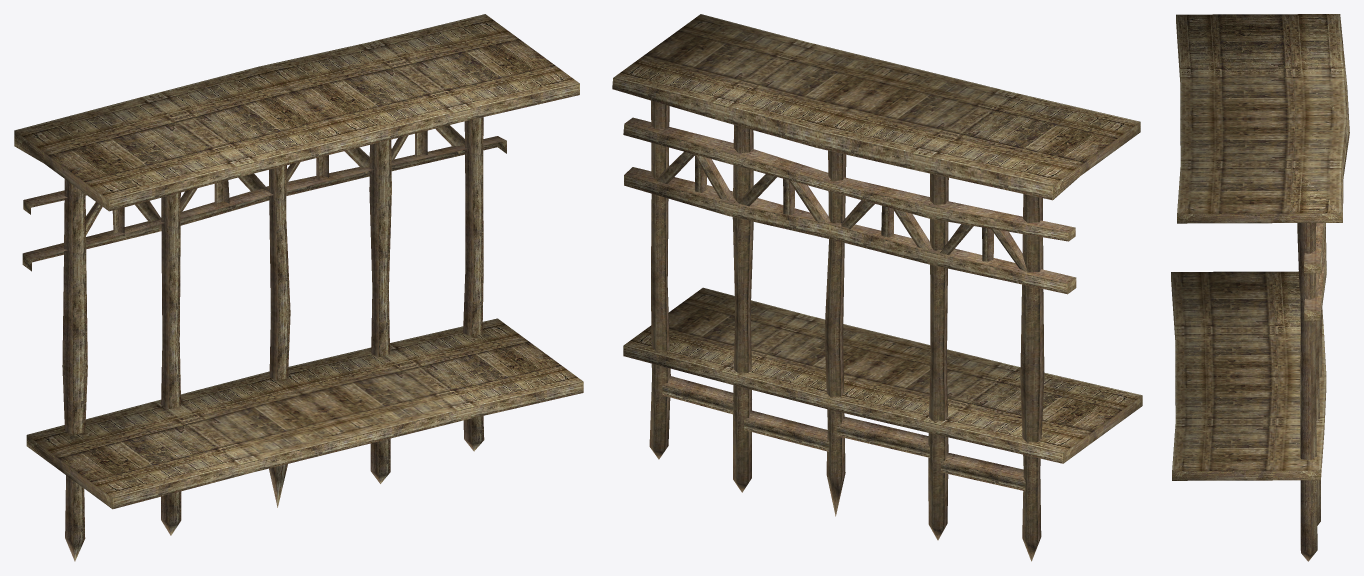
The model's file is S_Build_West046.FBX.
The picture shows the model from 3 angles, left to right: view 1: azimuth 30°, elevation 25°; view 2: azimuth 150°, elevation 25°; view 3: azimuth 270°, elevation 25°; orthographic projection. The views are drawn at different scales.
Parts seen in each view (by area): view 1: S_Build_West046; view 2: S_Build_West046; view 3: S_Build_West046.
Part boxes in pixels (<box>): S_Build_West046: <box>14,14,583,561</box>; S_Build_West046: <box>612,14,1142,561</box>; S_Build_West046: <box>1171,14,1349,561</box>.
Bounding box in the file's own units: 938 × 351 × 807.
